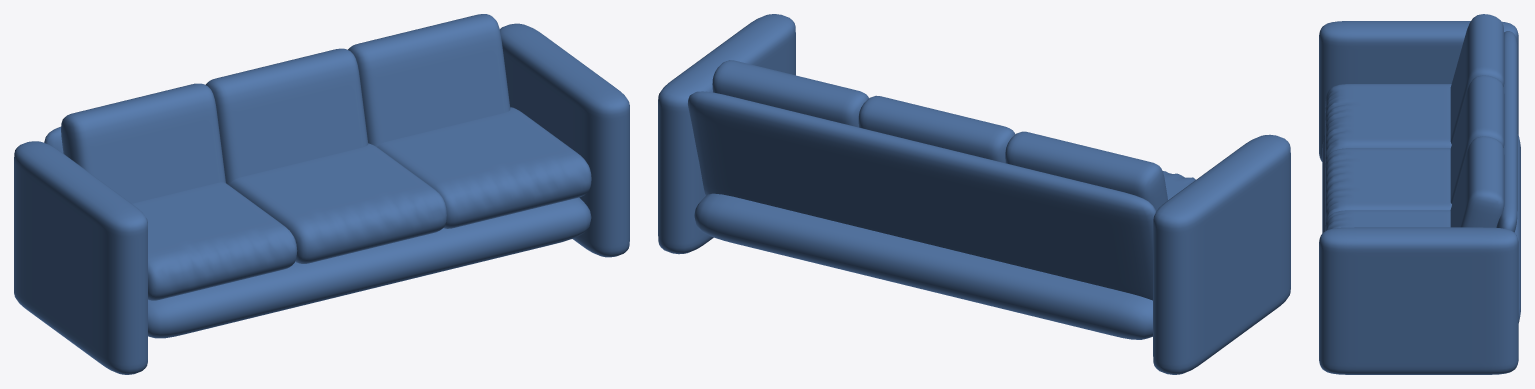
File: BluishTrippleCouch.fbx
The picture shows the model from 3 angles, left to right: view 1: azimuth 30°, elevation 25°; view 2: azimuth 150°, elevation 25°; view 3: azimuth 270°, elevation 25°; orthographic projection. The views are drawn at different scales.
Parts seen in each view (by area): view 1: Cube.007; view 2: Cube.007; view 3: Cube.007.
Part boxes in pixels (x1,y1,x2,y2): Cube.007: (14,14,629,374); Cube.007: (658,14,1290,374); Cube.007: (1319,14,1520,374).
Bounding box in the file's own units: 610 × 209 × 233.
